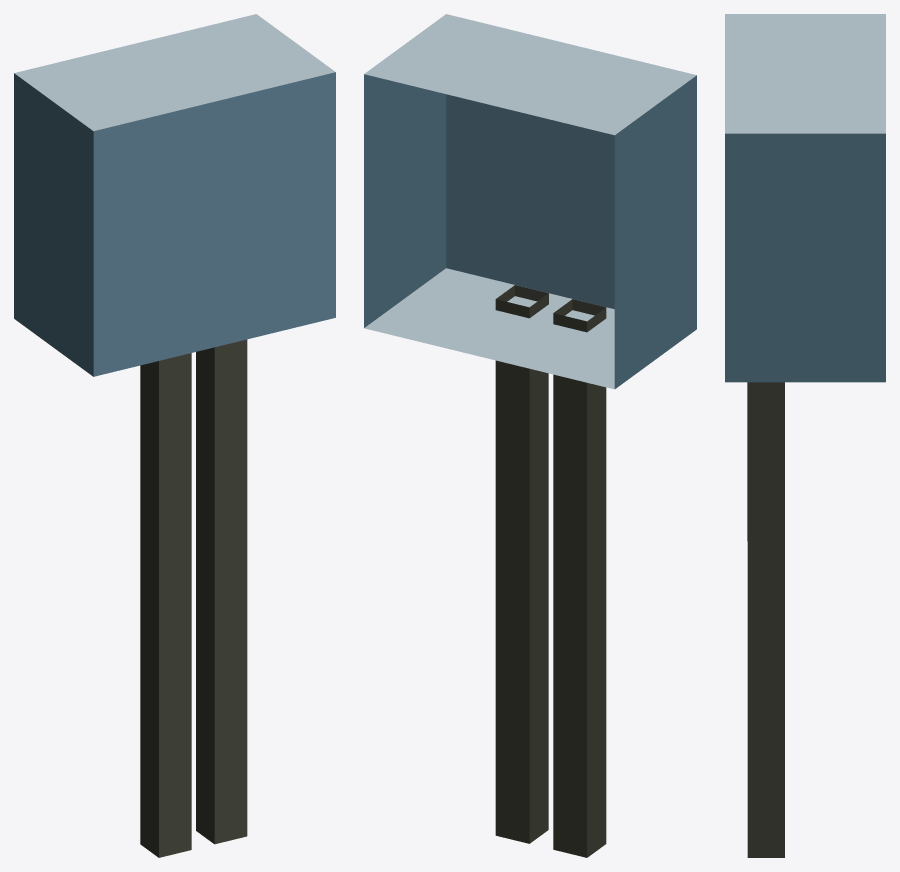
File: SM_WallBox_01.fbx
3 views of the same model, side by side, from view 1: azimuth 30°, elevation 25°; view 2: azimuth 150°, elevation 25°; view 3: azimuth 270°, elevation 25° (orthographic). The views are drawn at different scales.
Visible parts, largest first — view 1: SM_WallBox_01; view 2: SM_WallBox_01; view 3: SM_WallBox_01.
Boxes of the visible parts, box(x1,y1,x2,y2) form: SM_WallBox_01: box(14, 14, 335, 857); SM_WallBox_01: box(364, 14, 696, 857); SM_WallBox_01: box(725, 14, 885, 857).
Size of the model in its own units: 0.6191 by 1.84 by 0.3515.
